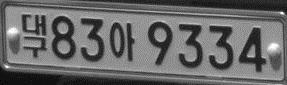3: (208, 24, 234, 69), (178, 22, 203, 67), (80, 17, 104, 61)
4: (238, 26, 267, 72)
8: (50, 14, 76, 59)
9: (147, 20, 173, 65)
대구_V: (21, 14, 47, 57)
아: (109, 21, 135, 60)
